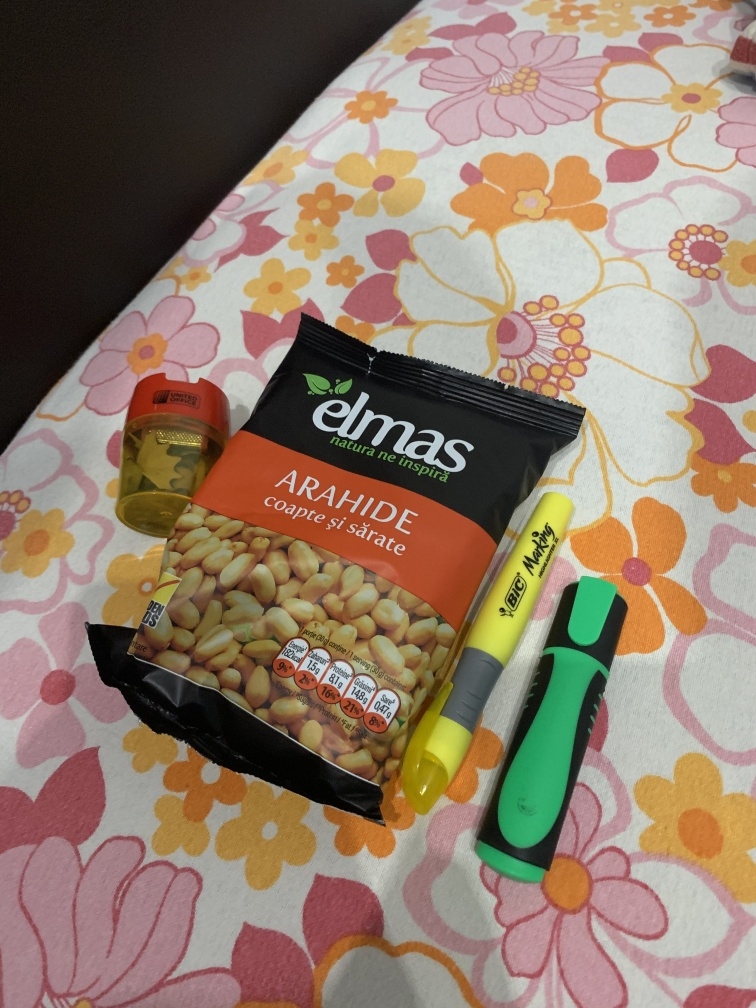peanuts: (86, 309, 586, 842)
